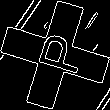P_W: (25, 30, 85, 80)
